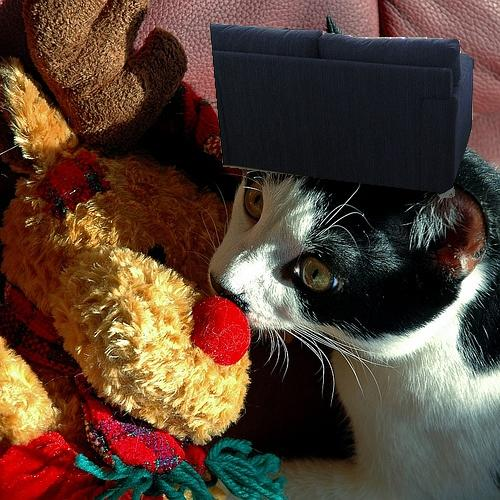tampered: (210, 24, 474, 198)
